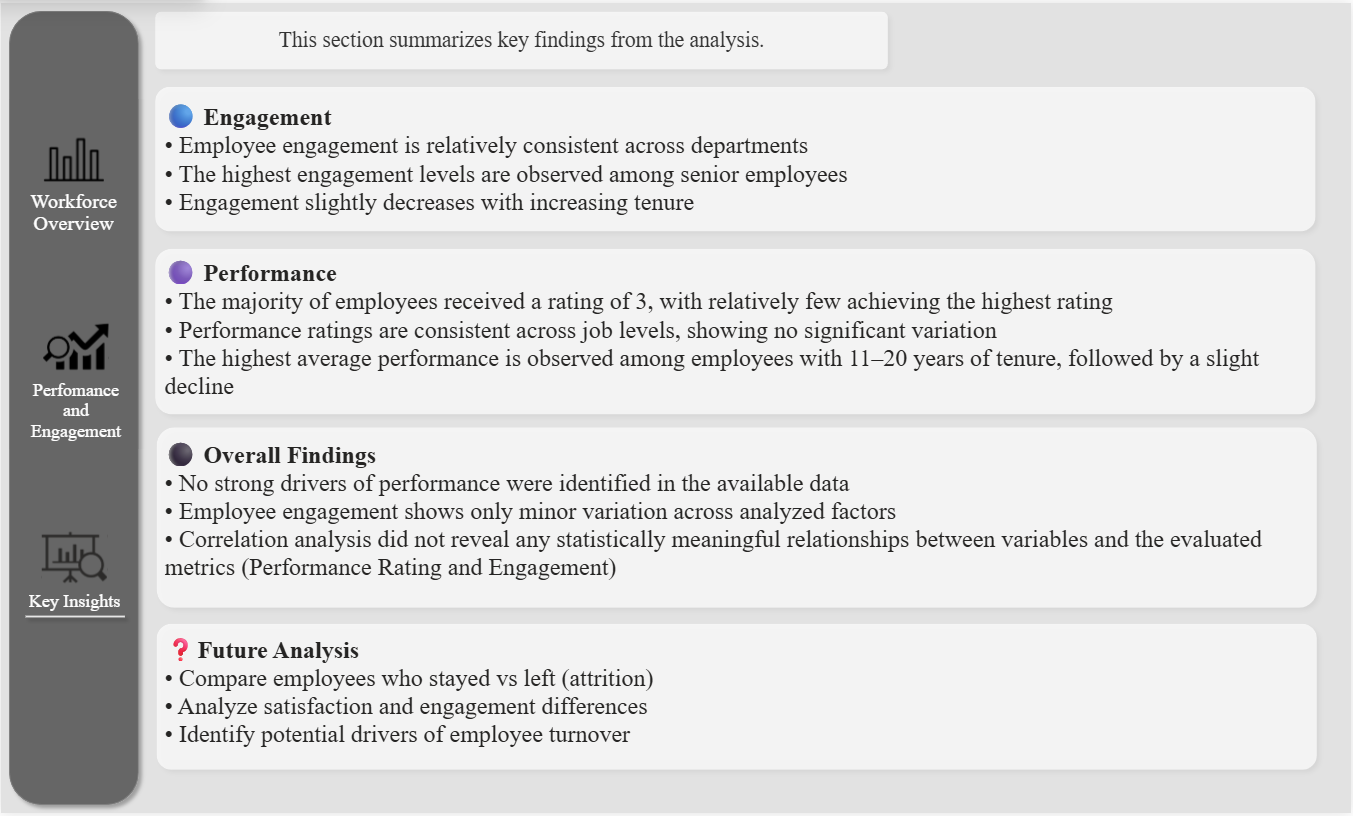

Layout of this report page (visuals, bound fields, positions):
{"tool":"powerbi","page":{"name":"Key Insights","canvas":[1500,900],"ordinal":2},"visuals":[{"type":"shape","box":[163.3,461.7,1308.3,220],"z":0},{"type":"shape","box":[0,0,162,900],"z":1000},{"type":"actionButton","title":"Workforce Overview ","box":[15,116.7,131.7,165],"z":2000},{"type":"actionButton","box":[20,336.7,126.7,158.3],"z":3000},{"type":"actionButton","box":[18.3,548.3,126.7,158.3],"z":4000},{"type":"shape","box":[18.3,656.7,128.3,50],"z":5000},{"type":"shape","box":[161.7,0,833.3,83.3],"z":6000},{"type":"textbox","box":[176.7,476.7,1278.3,180],"z":7000},{"type":"shape","box":[161.7,83.3,1308.3,180],"z":8000},{"type":"shape","box":[161.7,263.3,1308.3,203.3],"z":9000},{"type":"textbox","box":[176.7,101.7,1278.3,148.3],"z":10000},{"type":"textbox","box":[176.7,275,1260,175],"z":11000},{"type":"shape","box":[163.3,680,1308.3,181.7],"z":12000},{"type":"textbox","box":[176.7,693.3,1278.3,150],"z":13000}]}

Visuals, with their boxes in screenshot pixels (x1, y1, x2, y2), scaled from the page's 1500x900 canvas onto the 1353x816 screenshot:
shape: bbox=[147, 419, 1327, 618]
shape: bbox=[0, 0, 146, 815]
"Workforce Overview " actionButton: bbox=[14, 106, 132, 255]
actionButton: bbox=[18, 305, 132, 449]
actionButton: bbox=[17, 497, 131, 641]
shape: bbox=[17, 595, 132, 641]
shape: bbox=[146, 0, 897, 76]
textbox: bbox=[159, 432, 1312, 595]
shape: bbox=[146, 76, 1326, 239]
shape: bbox=[146, 239, 1326, 423]
textbox: bbox=[159, 92, 1312, 227]
textbox: bbox=[159, 249, 1296, 408]
shape: bbox=[147, 617, 1327, 781]
textbox: bbox=[159, 629, 1312, 765]
